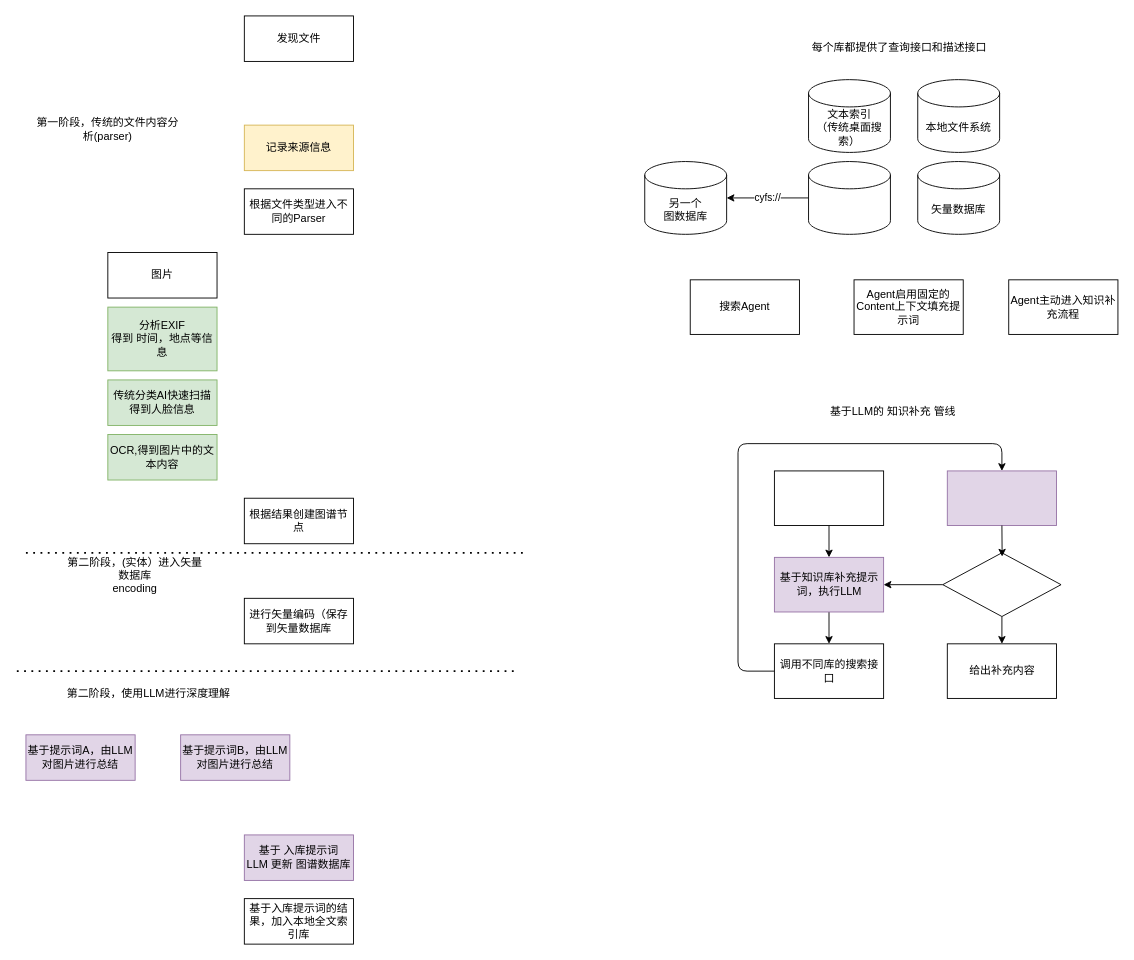
Image size: 1134x960. Some labels were removed from this diagram. Here are the shapes that lost their labels. From the top down, the centre of each, then its label:
(x=849, y=197): 图数据库
(x=829, y=498): 交互上下文
(x=1001, y=498): LLM整合搜索结果
(x=1001, y=584): 是否结束 （太长/足够）
